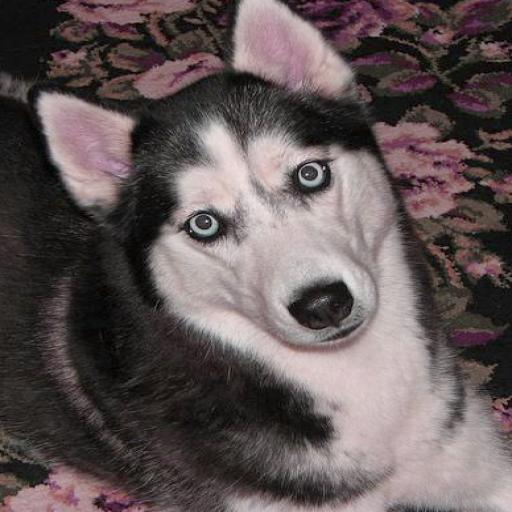dog_face: (36, 0, 366, 347)
